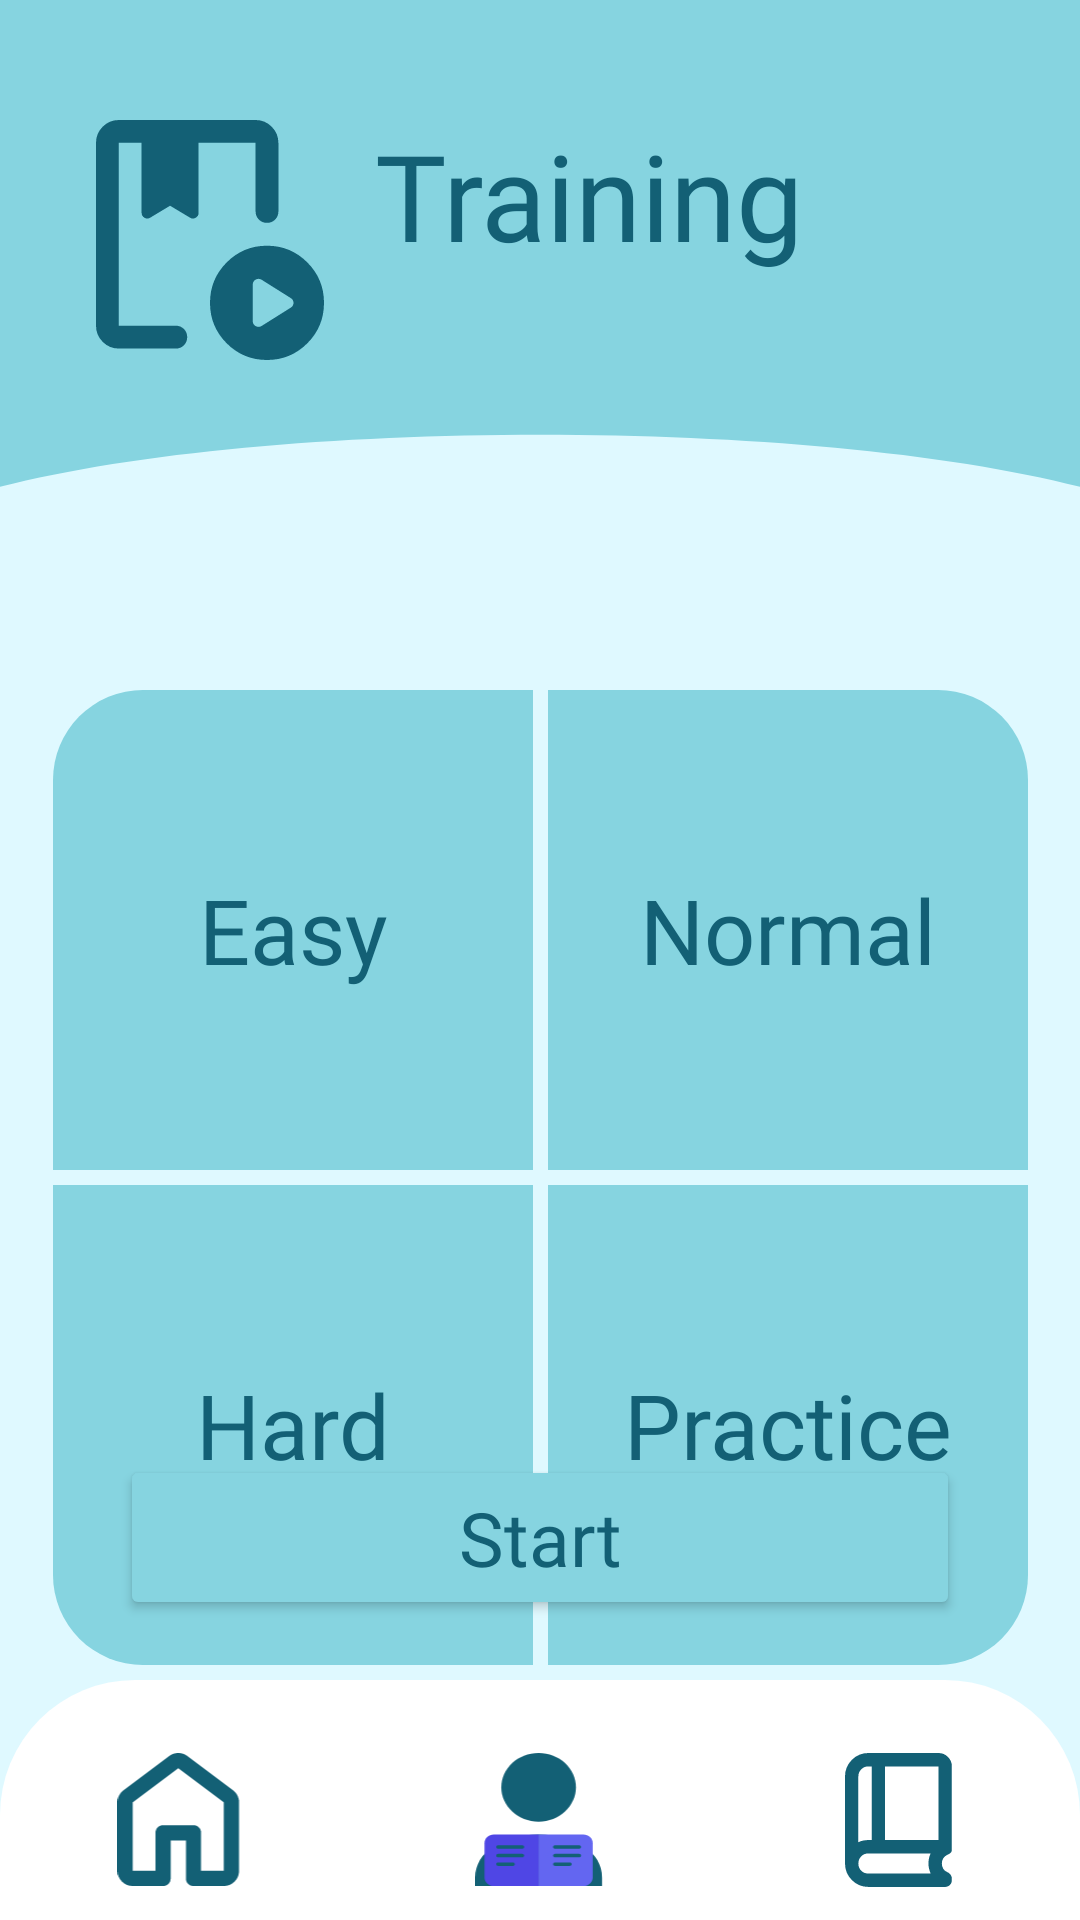

Screen size 1080w x 1920h. Icon name, then its center in pixels as [x,y]:
avaterbook: [539,1819]
book: [898,1820]
home: [178,1819]
playbook: [210,240]
